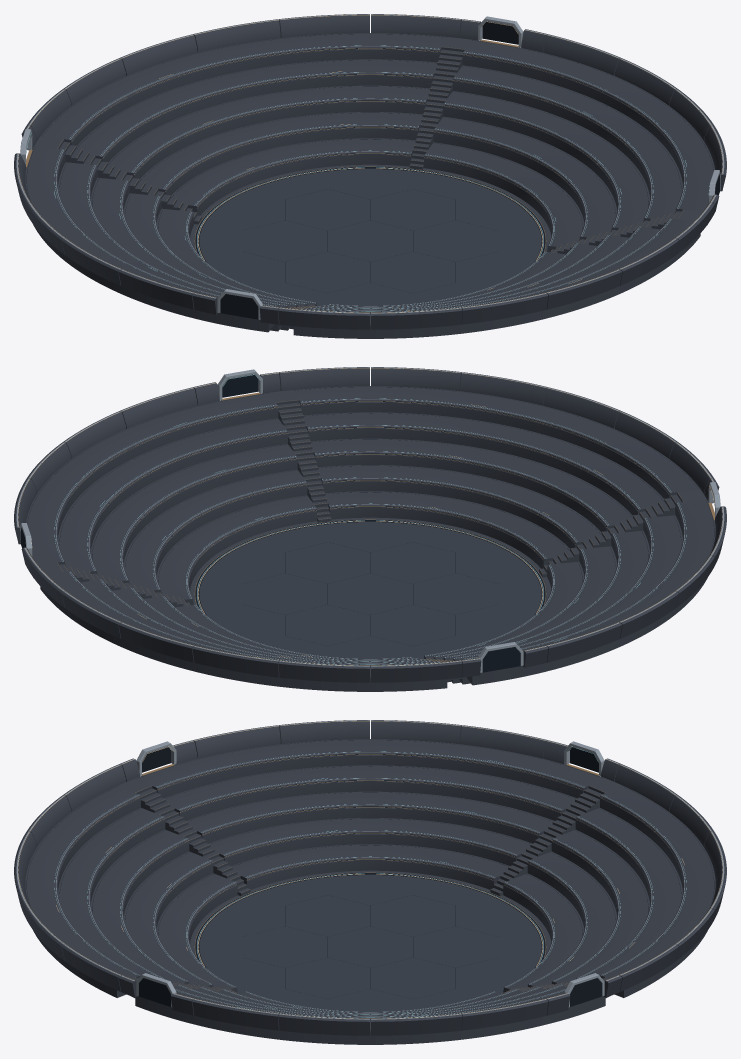
Rendered from ReferenceArena.fbx.
3 renders of one model, top to bottom at view 1: azimuth 30°, elevation 25°; view 2: azimuth 150°, elevation 25°; view 3: azimuth 270°, elevation 25°, orthographic.
Visible parts, largest first — view 1: Bowl_GraphiteStand_Quadrant_0, Bowl_GraphiteStand_Quadrant_1, Floor_Hero, Bowl_GraphiteStand_Quadrant_2, Bowl_GraphiteStand_Quadrant_3, Bowl_RecessBlack_Quadrant_0, Bowl_TitaniumTrim_Quadrant_0, Bowl_LedAmber_Quadrant_0, Bowl_TitaniumTrim_Quadrant_2, Bowl_RecessBlack_Quadrant_1, Bowl_TitaniumTrim_Quadrant_3, Bowl_TitaniumTrim_Quadrant_1 (+4 smaller); view 2: Bowl_GraphiteStand_Quadrant_2, Bowl_GraphiteStand_Quadrant_0, Floor_Hero, Bowl_GraphiteStand_Quadrant_3, Bowl_GraphiteStand_Quadrant_1, Bowl_RecessBlack_Quadrant_0, Bowl_TitaniumTrim_Quadrant_0, Bowl_TitaniumTrim_Quadrant_2, Bowl_TitaniumTrim_Quadrant_3, Bowl_RecessBlack_Quadrant_3, Bowl_TitaniumTrim_Quadrant_1, Bowl_RecessBlack_Quadrant_2 (+4 smaller); view 3: Bowl_GraphiteStand_Quadrant_2, Floor_Hero, Bowl_GraphiteStand_Quadrant_1, Bowl_GraphiteStand_Quadrant_0, Bowl_GraphiteStand_Quadrant_3, Bowl_RecessBlack_Quadrant_2, Bowl_TitaniumTrim_Quadrant_2, Bowl_TitaniumTrim_Quadrant_0, Bowl_RecessBlack_Quadrant_0, Bowl_LedAmber_Quadrant_2, Bowl_TitaniumTrim_Quadrant_3, Bowl_TitaniumTrim_Quadrant_1 (+5 smaller).
Boxes of the visible parts, box(x1,y1,x2,y2) form: Bowl_GraphiteStand_Quadrant_0: box(76, 14, 714, 259); Bowl_GraphiteStand_Quadrant_1: box(14, 33, 446, 254); Floor_Hero: box(199, 169, 541, 306); Bowl_GraphiteStand_Quadrant_2: box(25, 146, 628, 332); Bowl_GraphiteStand_Quadrant_3: box(293, 89, 726, 338); Bowl_RecessBlack_Quadrant_0: box(71, 21, 713, 262); Bowl_TitaniumTrim_Quadrant_0: box(101, 14, 684, 245); Bowl_LedAmber_Quadrant_0: box(72, 15, 674, 260); Bowl_TitaniumTrim_Quadrant_2: box(56, 150, 576, 319); Bowl_RecessBlack_Quadrant_1: box(42, 34, 446, 259); Bowl_TitaniumTrim_Quadrant_3: box(301, 89, 724, 312); Bowl_TitaniumTrim_Quadrant_1: box(16, 34, 439, 238); Bowl_GraphiteStand_Quadrant_2: box(311, 387, 726, 685); Bowl_GraphiteStand_Quadrant_0: box(14, 393, 551, 664); Floor_Hero: box(199, 522, 541, 659); Bowl_GraphiteStand_Quadrant_3: box(63, 367, 699, 522); Bowl_GraphiteStand_Quadrant_1: box(40, 571, 678, 691); Bowl_RecessBlack_Quadrant_0: box(20, 393, 545, 635); Bowl_TitaniumTrim_Quadrant_0: box(16, 405, 431, 663); Bowl_TitaniumTrim_Quadrant_2: box(322, 387, 724, 659); Bowl_TitaniumTrim_Quadrant_3: box(64, 367, 670, 525); Bowl_RecessBlack_Quadrant_3: box(222, 374, 698, 573); Bowl_TitaniumTrim_Quadrant_1: box(70, 571, 675, 672); Bowl_RecessBlack_Quadrant_2: box(308, 427, 714, 612); Bowl_GraphiteStand_Quadrant_2: box(14, 720, 604, 992); Floor_Hero: box(199, 875, 541, 1011); Bowl_GraphiteStand_Quadrant_1: box(371, 720, 726, 997); Bowl_GraphiteStand_Quadrant_0: box(135, 808, 726, 1044); Bowl_GraphiteStand_Quadrant_3: box(14, 786, 369, 1035); Bowl_RecessBlack_Quadrant_2: box(92, 740, 597, 935); Bowl_TitaniumTrim_Quadrant_2: box(16, 720, 583, 986); Bowl_TitaniumTrim_Quadrant_0: box(175, 816, 724, 1019); Bowl_RecessBlack_Quadrant_0: box(195, 797, 681, 1030); Bowl_LedAmber_Quadrant_2: box(18, 721, 583, 894); Bowl_TitaniumTrim_Quadrant_3: box(16, 795, 369, 1019); Bowl_TitaniumTrim_Quadrant_1: box(371, 720, 724, 986).
Size of the model in its own units: 5208 by 710 by 5208.
